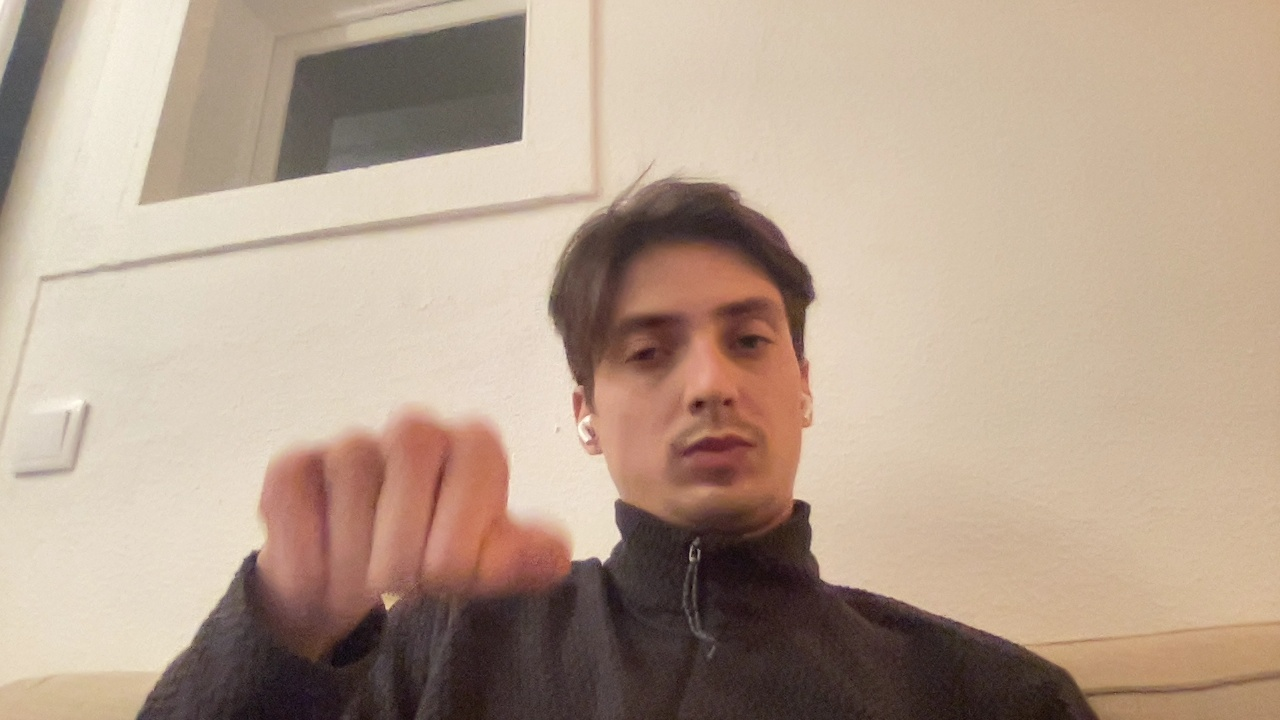Yes: (210, 394, 614, 639)
